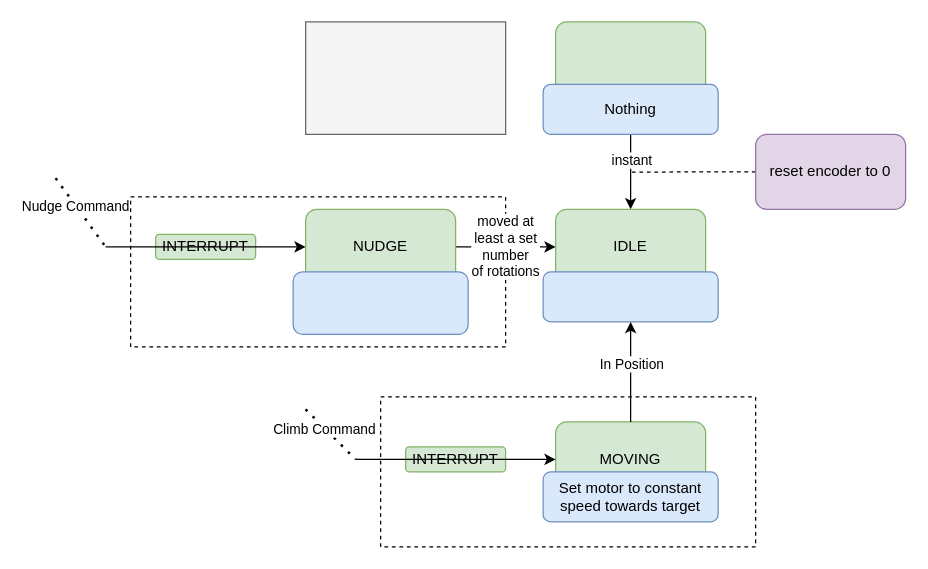
This 928x569 diagram has some shape labels left out. The box of each missing label's shape, as (x1, y1, x2, y2) in pixels:
Deep Climb Motors: Falcon 500 (Shared with Lift, operated by transmission): (304, 21, 506, 134)
INIT: (554, 21, 706, 97)
Note current position Set motor to speed matching target direction: (292, 271, 468, 334)
Set motor to idle: (542, 271, 718, 322)
